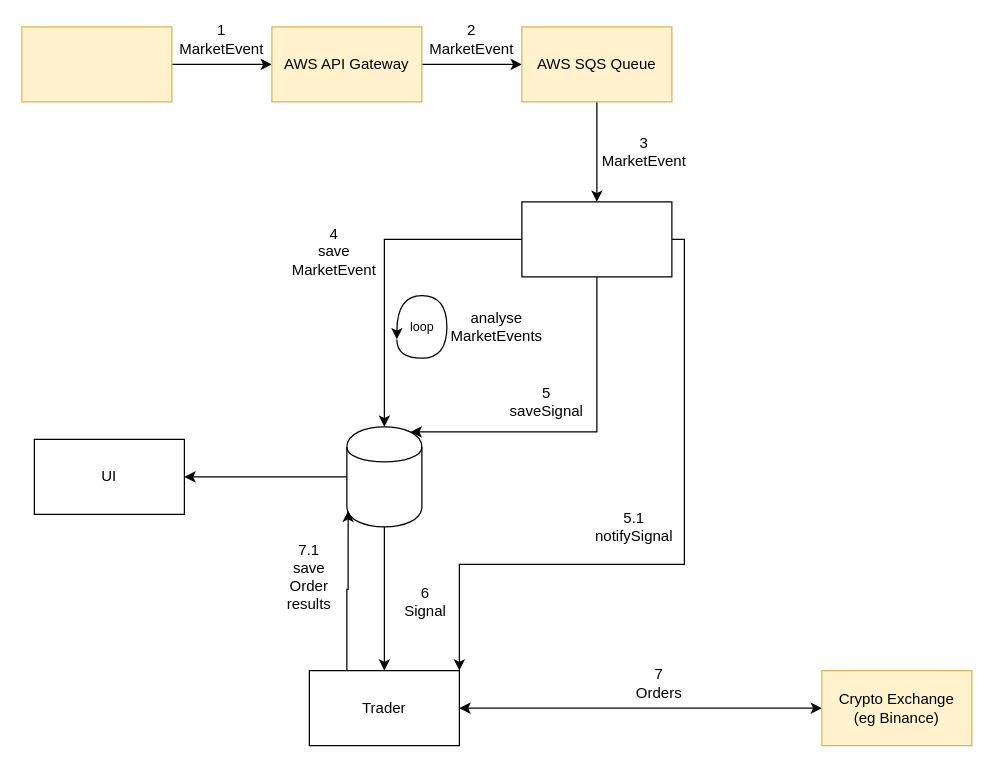
Some shapes in this 994 by 768 pixel diagram are drawn without their labels. The shapes that lost their labels are listed below. From the top down, each one's centre as x and y in pixels, then its label:
At pixel 96 64: "MarketEvent source (eg. TradingView)".
At pixel 596 239: "Analyser".
At pixel 384 476: "DB".
